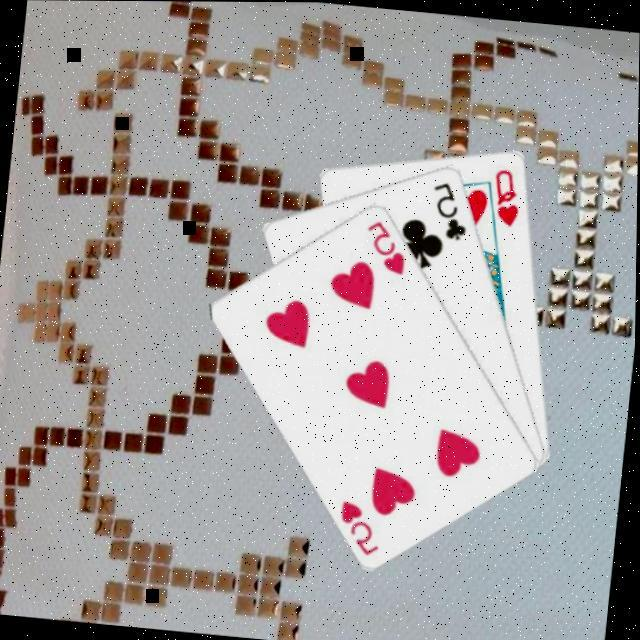5C: (426, 173, 474, 240)
5H: (333, 493, 387, 556), (358, 213, 412, 275)
QH: (488, 162, 526, 226)
